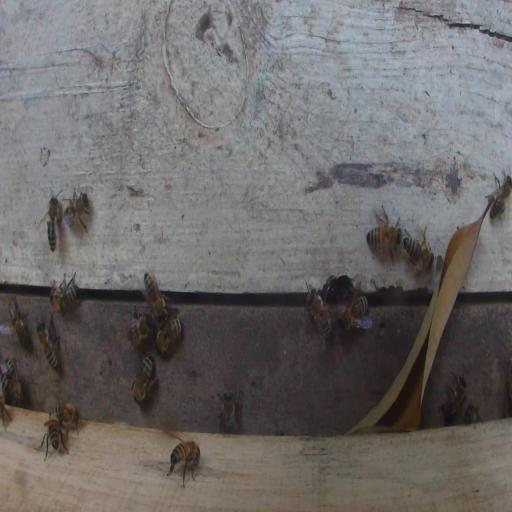bee: (167, 439, 201, 488), (305, 286, 333, 341), (401, 226, 433, 273), (35, 319, 61, 375), (437, 371, 466, 420), (61, 187, 91, 233), (131, 354, 158, 405), (49, 271, 78, 315), (41, 412, 69, 457), (143, 271, 168, 321), (7, 297, 31, 348), (339, 293, 370, 331), (155, 315, 183, 356), (127, 308, 154, 349), (217, 388, 238, 434), (489, 175, 511, 218), (3, 357, 22, 404), (367, 227, 402, 251), (46, 198, 59, 252), (51, 401, 79, 424), (463, 402, 482, 424)
